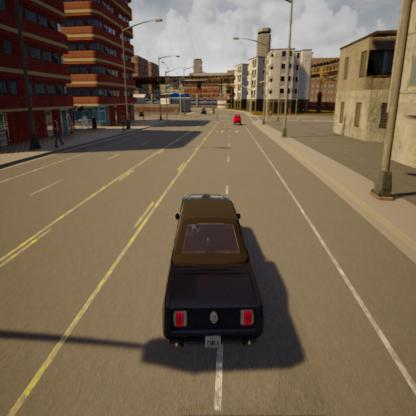Cars: (160, 185, 271, 354), (232, 109, 244, 133)
Pedestrian: (53, 117, 65, 153)
